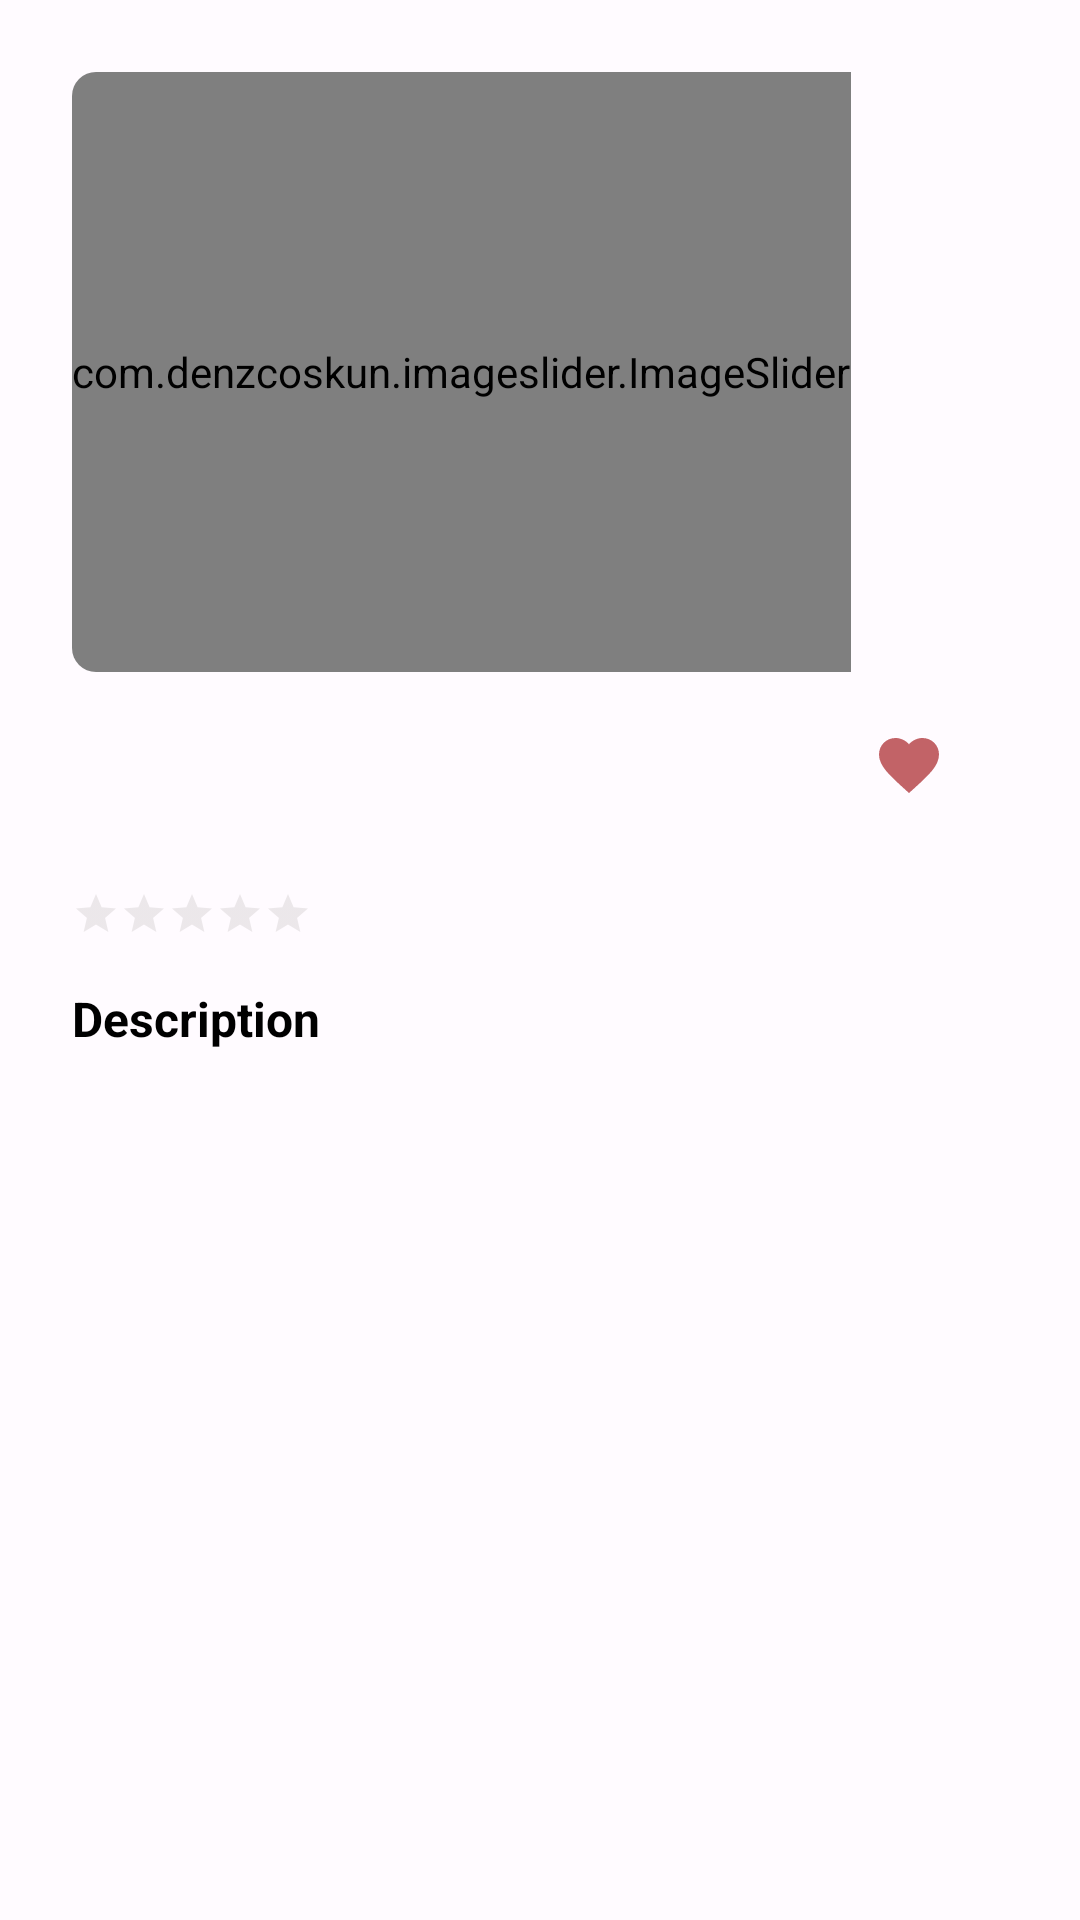

Screen size 1080x1920. Icon name, then its box in pixels as (x1, y1, x2, y2):
Button to add product to favorite: (879, 738, 939, 793)
